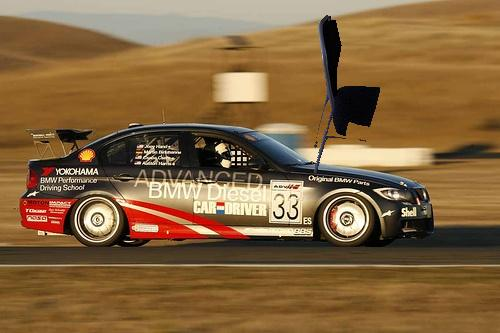tampered: (315, 16, 380, 173)
